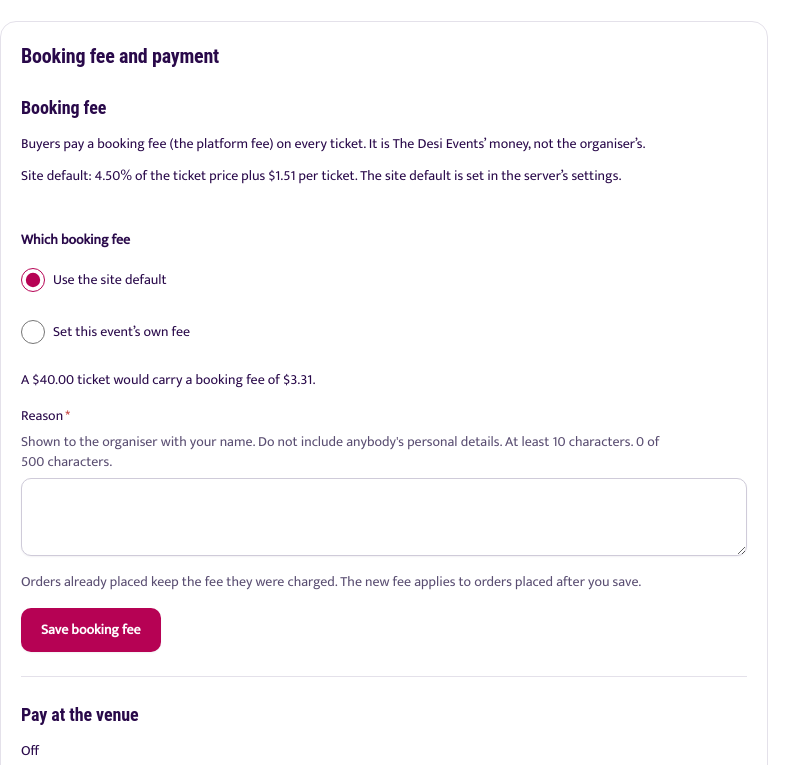
Test case: the booking fee › sends the waiting write once more when the prompt is confirmed by enter, and says one outcome
Type "Agreed with the organiser for this launch." into the text box labelled "Reason*" at (384, 517), box [21, 478, 747, 556]
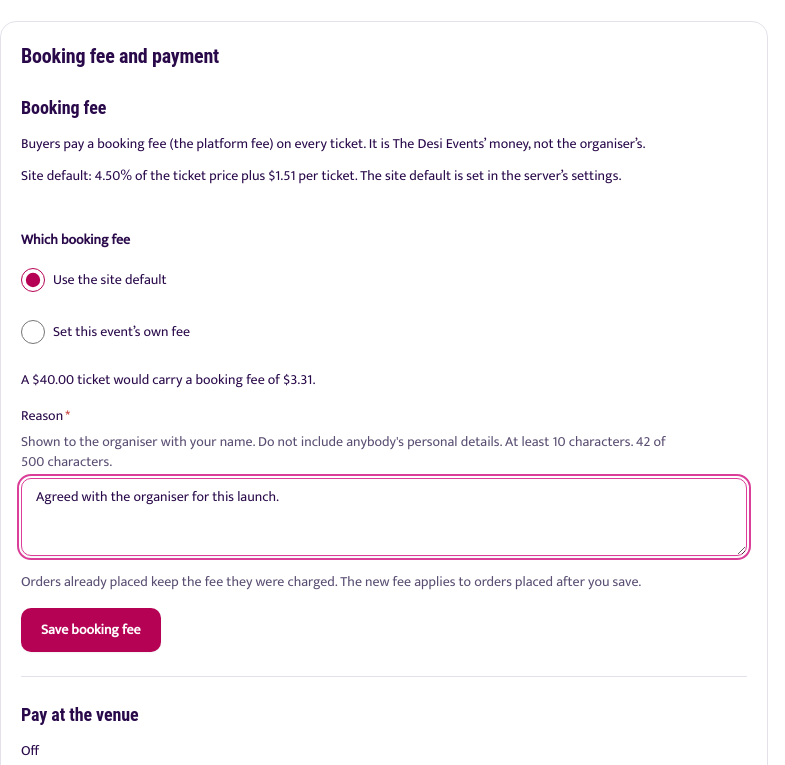
Click the button "Save booking fee" at (91, 630), box [21, 608, 161, 652]
(page scrolled)
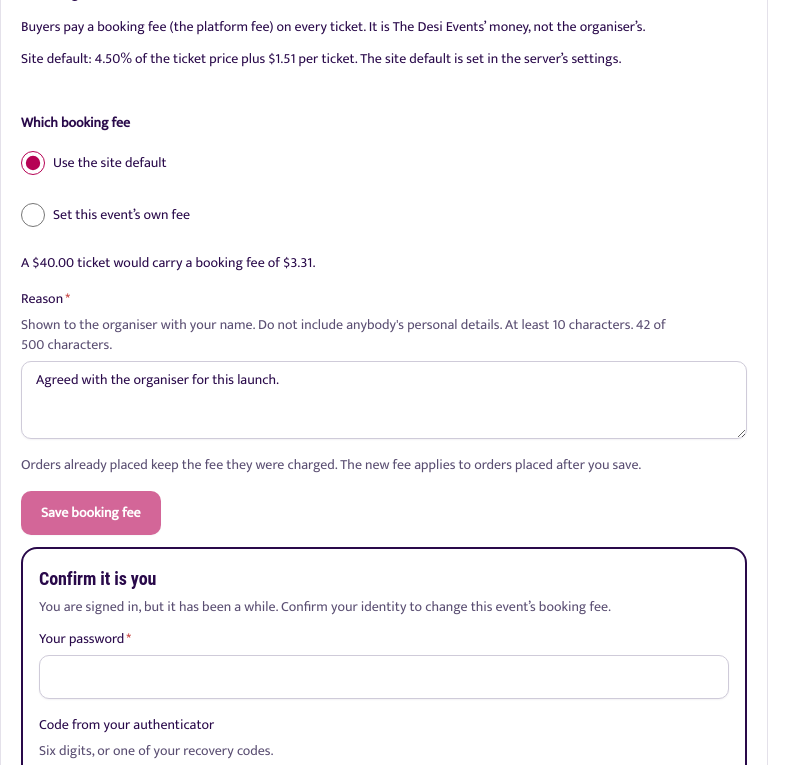
Expected: the button "Save booking fee" is disabled, [21, 491, 161, 535]
Type "correct horse" into the password field labelled "Your password*" at (384, 677), box [39, 655, 729, 699]
Then press Enter
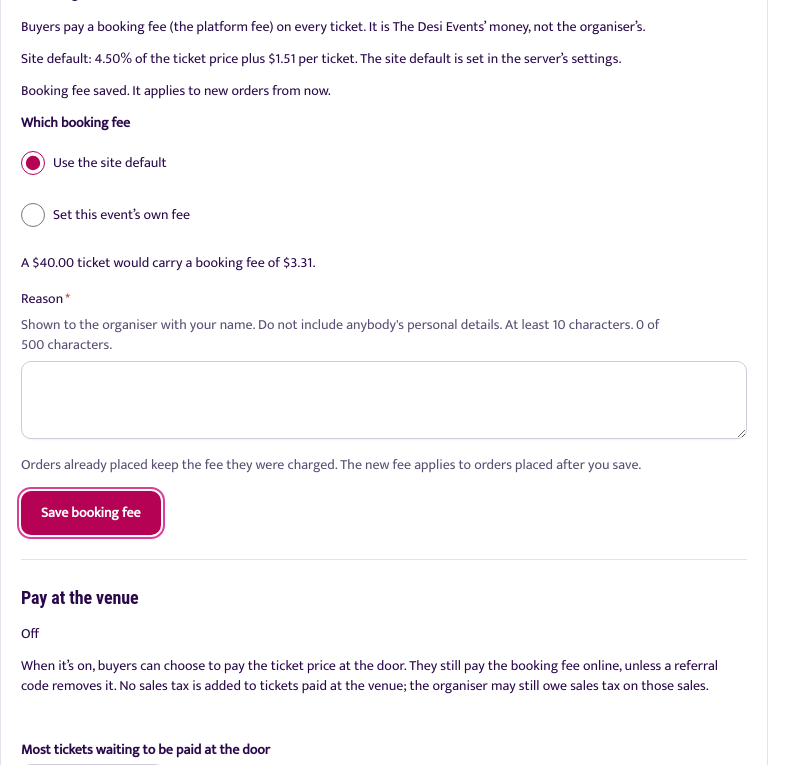
Expected: the text "Booking fee saved. It applies to new orders from now." is shown, [21, 79, 331, 102]
